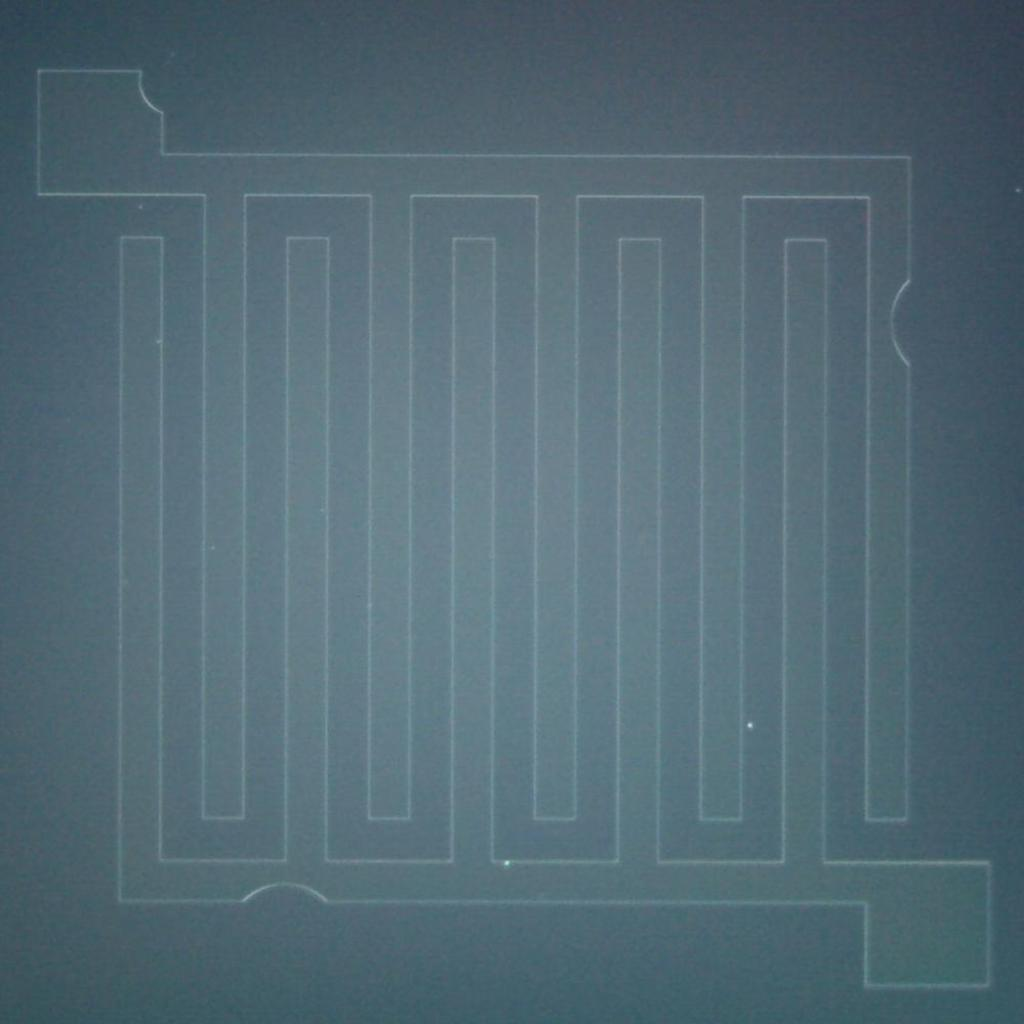dot: (1015, 188, 1021, 194), (748, 722, 752, 728), (505, 861, 509, 865), (138, 206, 142, 210), (156, 340, 160, 343)
